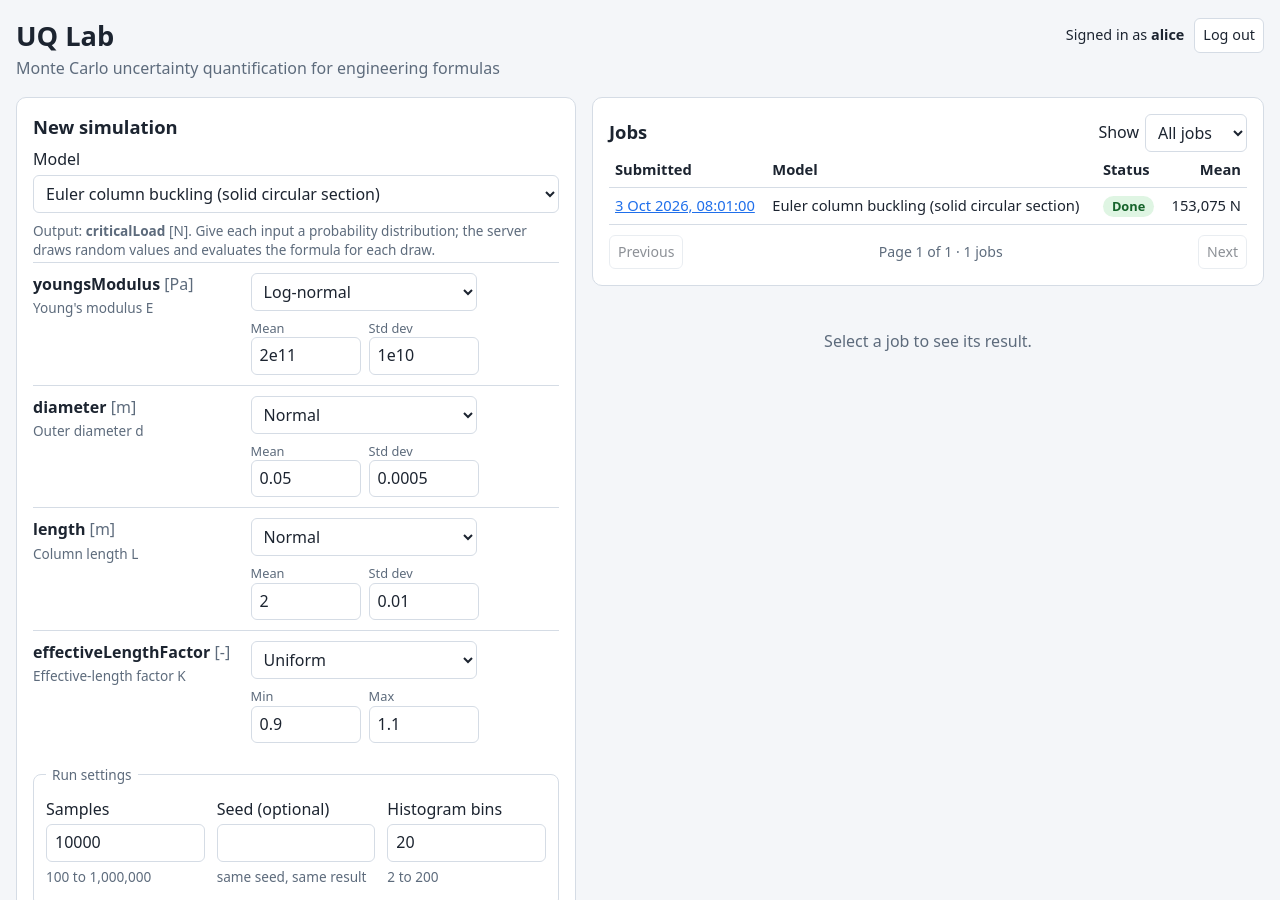
it: App › shows a clear message for a status with no jobs
Check: the text "Page 1 of 1 · 1 jobs" is shown, box [879,242,1003,262]
Step 1. Select "Running" in the dropdown named "Filter by status" → [1196, 133], box [1145,114,1247,152]
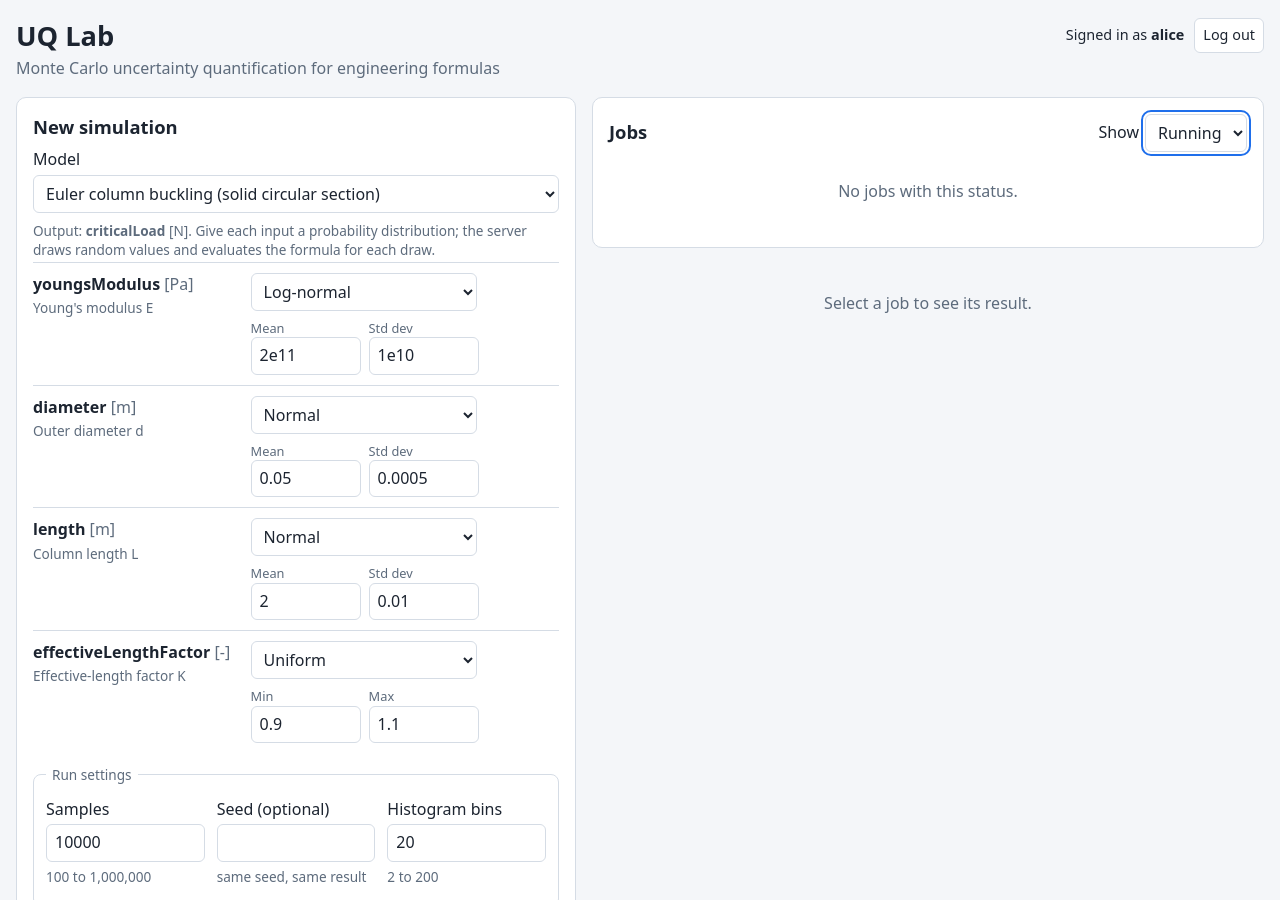
Check: the text "No jobs with this status." is shown, box [838,180,1018,202]
